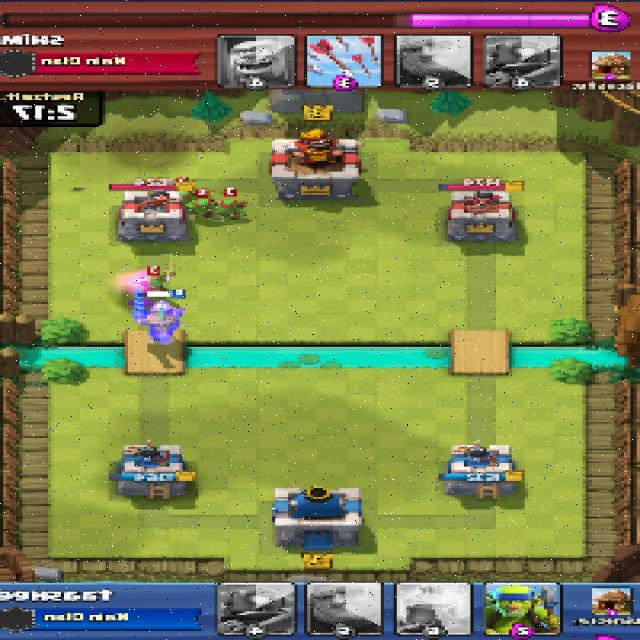Enemy-SpearGoblin: (135, 268, 174, 291), (211, 199, 242, 219), (169, 179, 195, 198), (190, 197, 212, 219)
Player-Prince: (134, 288, 188, 342)
